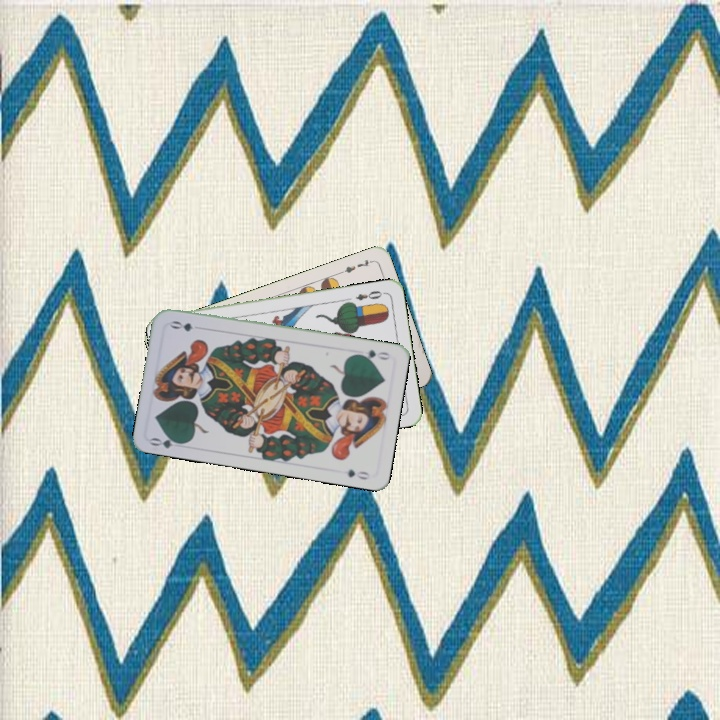E7: (336, 256, 375, 276)
EO: (352, 286, 387, 303)
GO: (146, 431, 188, 451), (352, 345, 393, 363)
